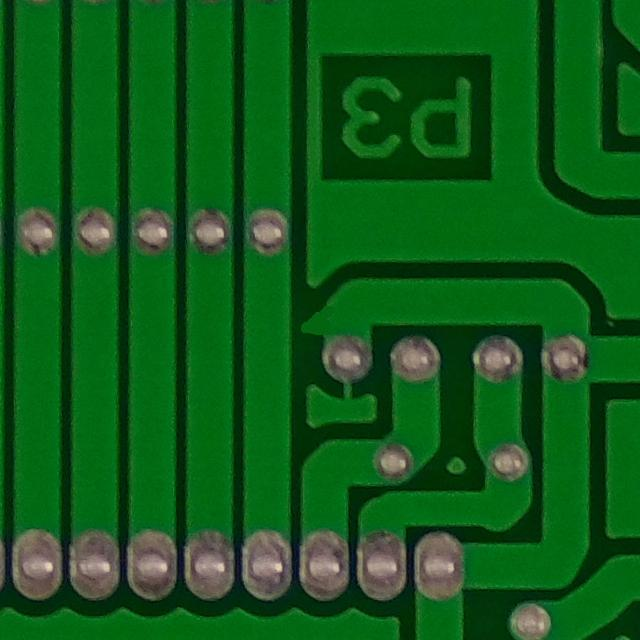spur: (300, 292, 340, 349)
